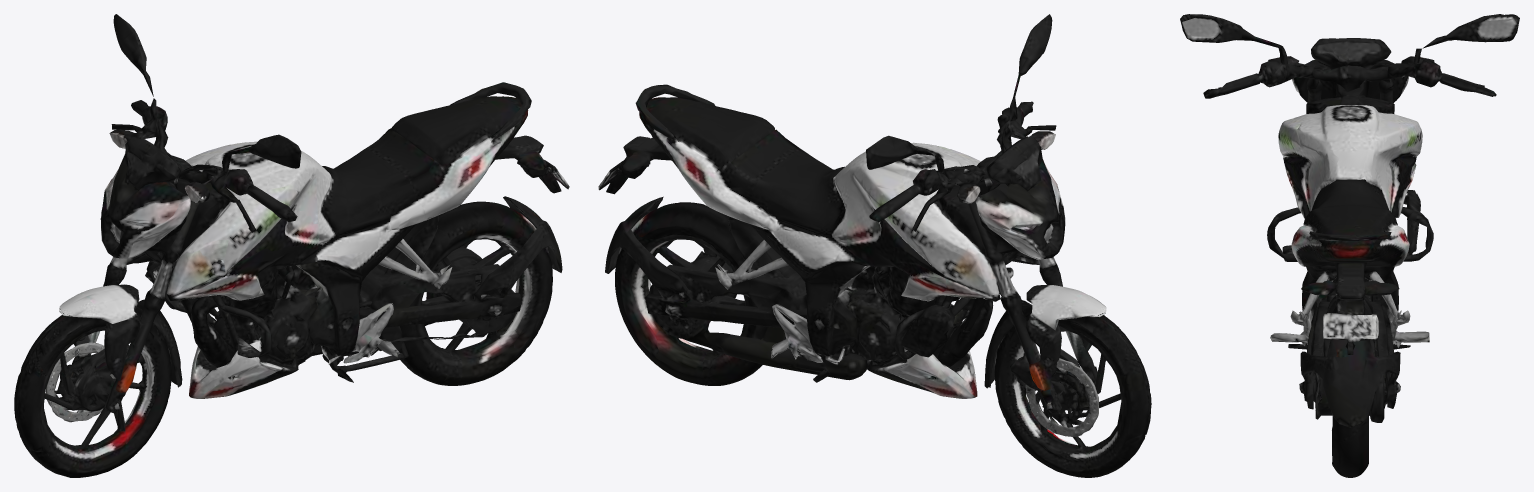
Rendered from bike.glb.
3 views of the same model, side by side, from view 1: azimuth 30°, elevation 25°; view 2: azimuth 150°, elevation 25°; view 3: azimuth 270°, elevation 25° (orthographic). The views are drawn at different scales.
Visible parts, largest first — view 1: tripo_node_6a363b3d-3cc6-4066-b900-c244556563c5; view 2: tripo_node_6a363b3d-3cc6-4066-b900-c244556563c5; view 3: tripo_node_6a363b3d-3cc6-4066-b900-c244556563c5.
Part boxes in pixels (x1,y1,x2,y2): tripo_node_6a363b3d-3cc6-4066-b900-c244556563c5: (14,14,569,477); tripo_node_6a363b3d-3cc6-4066-b900-c244556563c5: (598,14,1151,477); tripo_node_6a363b3d-3cc6-4066-b900-c244556563c5: (1180,14,1519,477).
Bounding box in the file's own units: 0.9789 × 0.6318 × 0.5763.
Materials: 1 (1 with a texture image).
